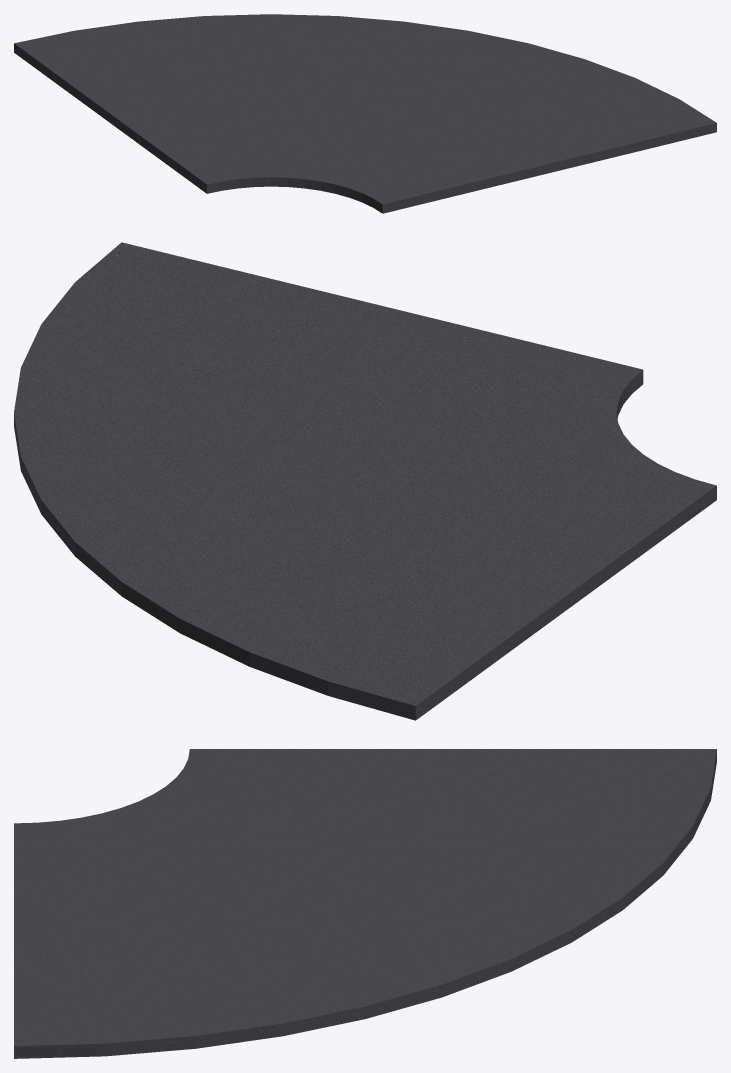
File: MS_RD_02_RoadCorner90.glb
The picture shows the model from 3 angles, top to bottom: view 1: azimuth 30°, elevation 25°; view 2: azimuth 150°, elevation 25°; view 3: azimuth 270°, elevation 25°; orthographic projection. The views are drawn at different scales.
Visible parts, largest first — view 1: Asphalt.001; view 2: Asphalt.001; view 3: Asphalt.001.
Boxes of the visible parts, x1,y1,x2,y2 form: Asphalt.001: (14, 14, 716, 213); Asphalt.001: (14, 242, 716, 720); Asphalt.001: (14, 749, 716, 1058).
Bounding box in the file's own units: 8 × 0.16 × 8.
Materials: 1 (1 with a texture image).
